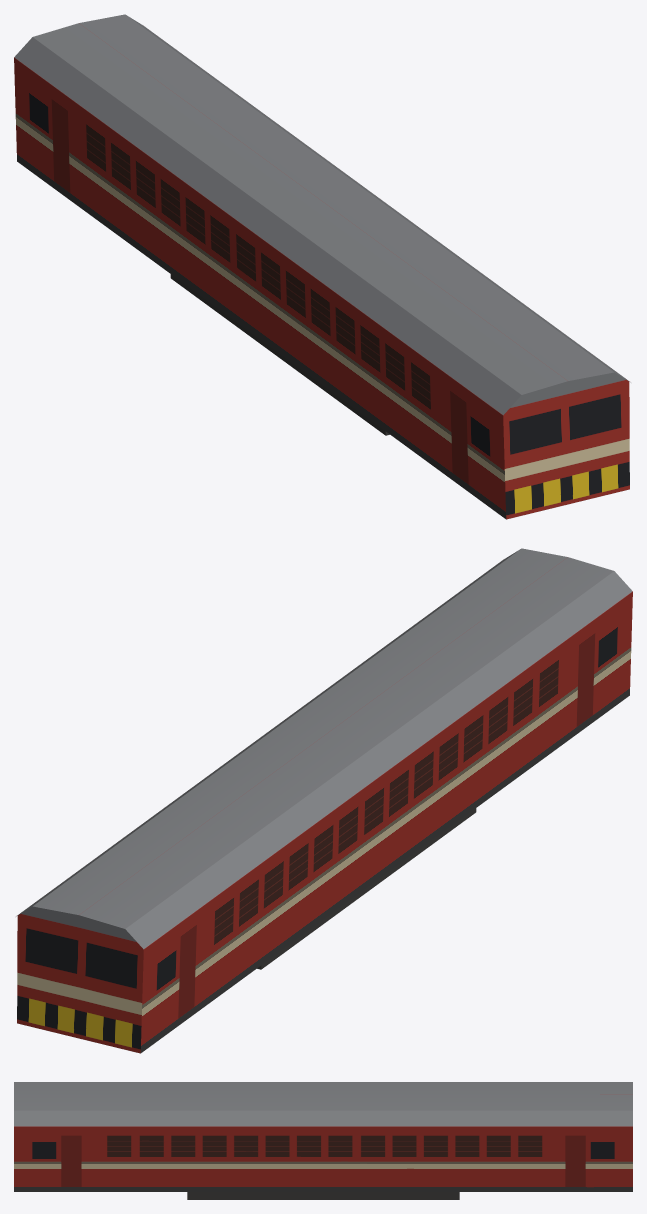
The model's file is wap7_lod2.glb.
3 views of the same model, one above another, from view 1: azimuth 30°, elevation 25°; view 2: azimuth 150°, elevation 25°; view 3: azimuth 270°, elevation 25° (orthographic). The views are drawn at different scales.
Visible parts, largest first — view 1: body; view 2: body; view 3: body.
Part boxes in pixels (left/top/right/bottom): body: left=14, top=14, right=630, bottom=519; body: left=16, top=548, right=632, bottom=1053; body: left=14, top=1082, right=632, bottom=1199.
Size of the model in its own units: 3.15 by 3.34 by 20.56.
2 materials, 2 textured.
